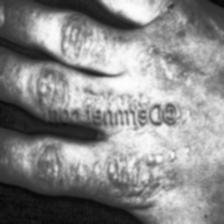Unclassified: (115, 154, 159, 199), (28, 74, 72, 117), (40, 141, 64, 191)
